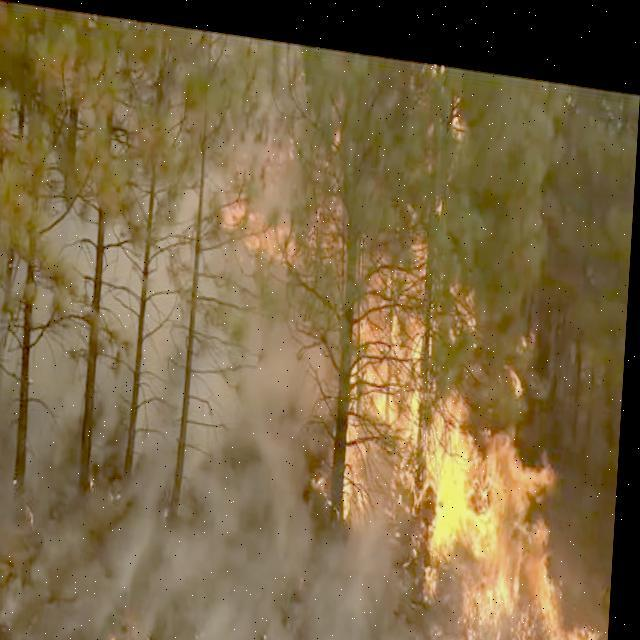Fire: (342, 242, 630, 639)
